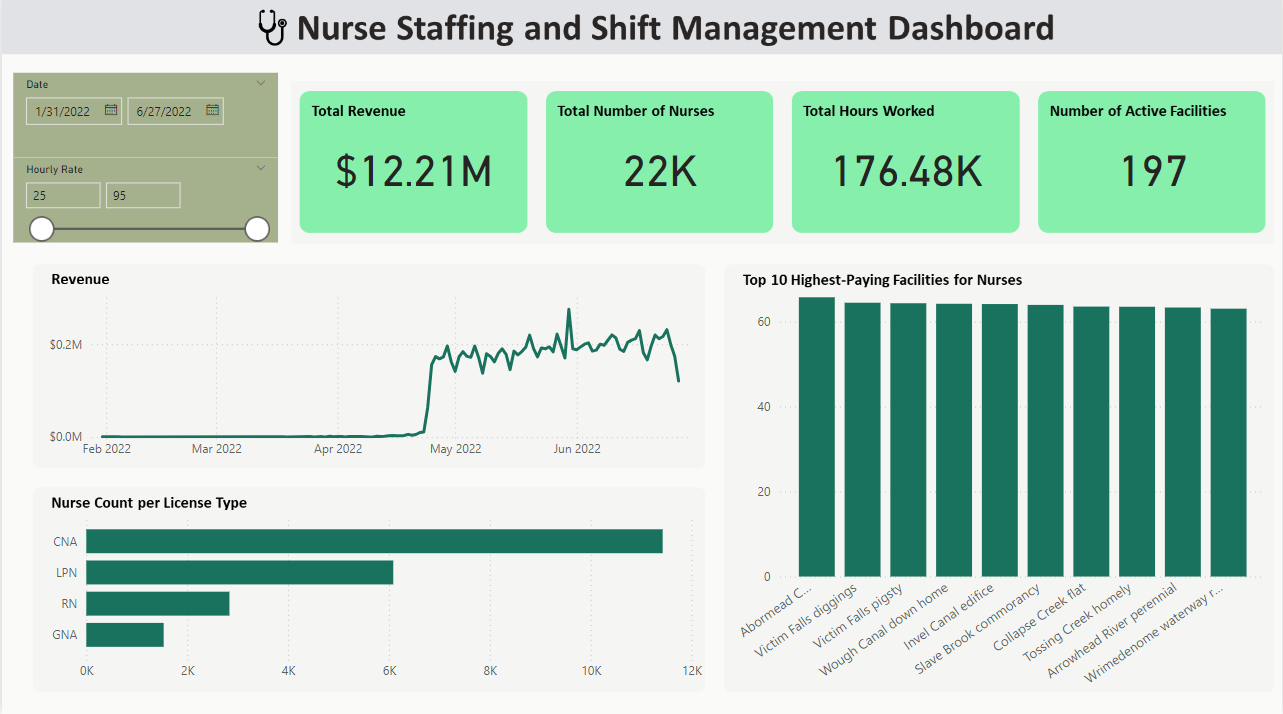

This screenshot's page, from the dashboard's own definition file:
{"tool":"powerbi","page":{"name":"Page 1","canvas":[1280,720],"ordinal":0},"visuals":[{"type":"card","fields":{"Values":["healthcare staffing_staging.total_revenue"]},"box":[297,106,229,131],"z":0},{"type":"card","fields":{"Values":["healthcare staffing_staging.total_hours_worked"]},"box":[790,106,229,132],"z":1000},{"type":"card","fields":{"Values":["healthcare staffing_staging.total_nurses"]},"box":[544,106,229,131],"z":2000},{"type":"card","fields":{"Values":["healthcare staffing_staging.active_facilities"]},"box":[1036,106,229,131],"z":3000},{"type":"lineChart","title":"Revenue ","fields":{"Y":["healthcare staffing_staging.total_revenue"],"Category":["healthcare staffing_staging.date.Variation.Date Hierarchy.Year","healthcare staffing_staging.date.Variation.Date Hierarchy.Quarter","healthcare staffing_staging.date.Variation.Date Hierarchy.Month","healthcare staffing_staging.date.Variation.Date Hierarchy.Day"]},"box":[42.2,290,663.3,183.3],"z":4000},{"type":"clusteredBarChart","title":"Nurse Count per License Type","fields":{"Category":["healthcare staffing_staging.license"],"Y":["healthcare staffing_staging.total_nurses"]},"box":[42.2,510,662.2,185.6],"z":5000},{"type":"slicer","fields":{"Values":["healthcare staffing_staging.date"]},"box":[11,79,265,85],"z":6000},{"type":"clusteredColumnChart","title":"Top 10 Highest-Paying Facilities for Nurses","fields":{"Category":["healthcare staffing_staging.facility_name"],"Y":["healthcare staffing_staging.average_hourly_rate"]},"box":[728.8,271.2,540,432.5],"z":7000},{"type":"slicer","fields":{"Values":["healthcare staffing_staging.hourly_rate"]},"box":[11,164,265,85],"z":8000}]}

Visuals, with their boxes in screenshot pixels (x1, y1, x2, y2), scaled from the page's 1280x720 canvas onto the 1283x714 screenshot:
card - healthcare staffing_staging.total_revenue: (298, 105, 527, 235)
card - healthcare staffing_staging.total_hours_worked: (792, 105, 1021, 236)
card - healthcare staffing_staging.total_nurses: (545, 105, 775, 235)
card - healthcare staffing_staging.active_facilities: (1038, 105, 1268, 235)
"Revenue " lineChart: (42, 288, 707, 469)
"Nurse Count per License Type" clusteredBarChart: (42, 506, 706, 690)
slicer - healthcare staffing_staging.date: (11, 78, 277, 163)
"Top 10 Highest-Paying Facilities for Nurses" clusteredColumnChart: (731, 269, 1272, 698)
slicer - healthcare staffing_staging.hourly_rate: (11, 163, 277, 247)
